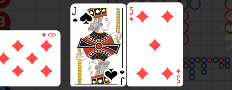5D: (128, 5, 134, 22)
8D: (40, 31, 57, 38)
